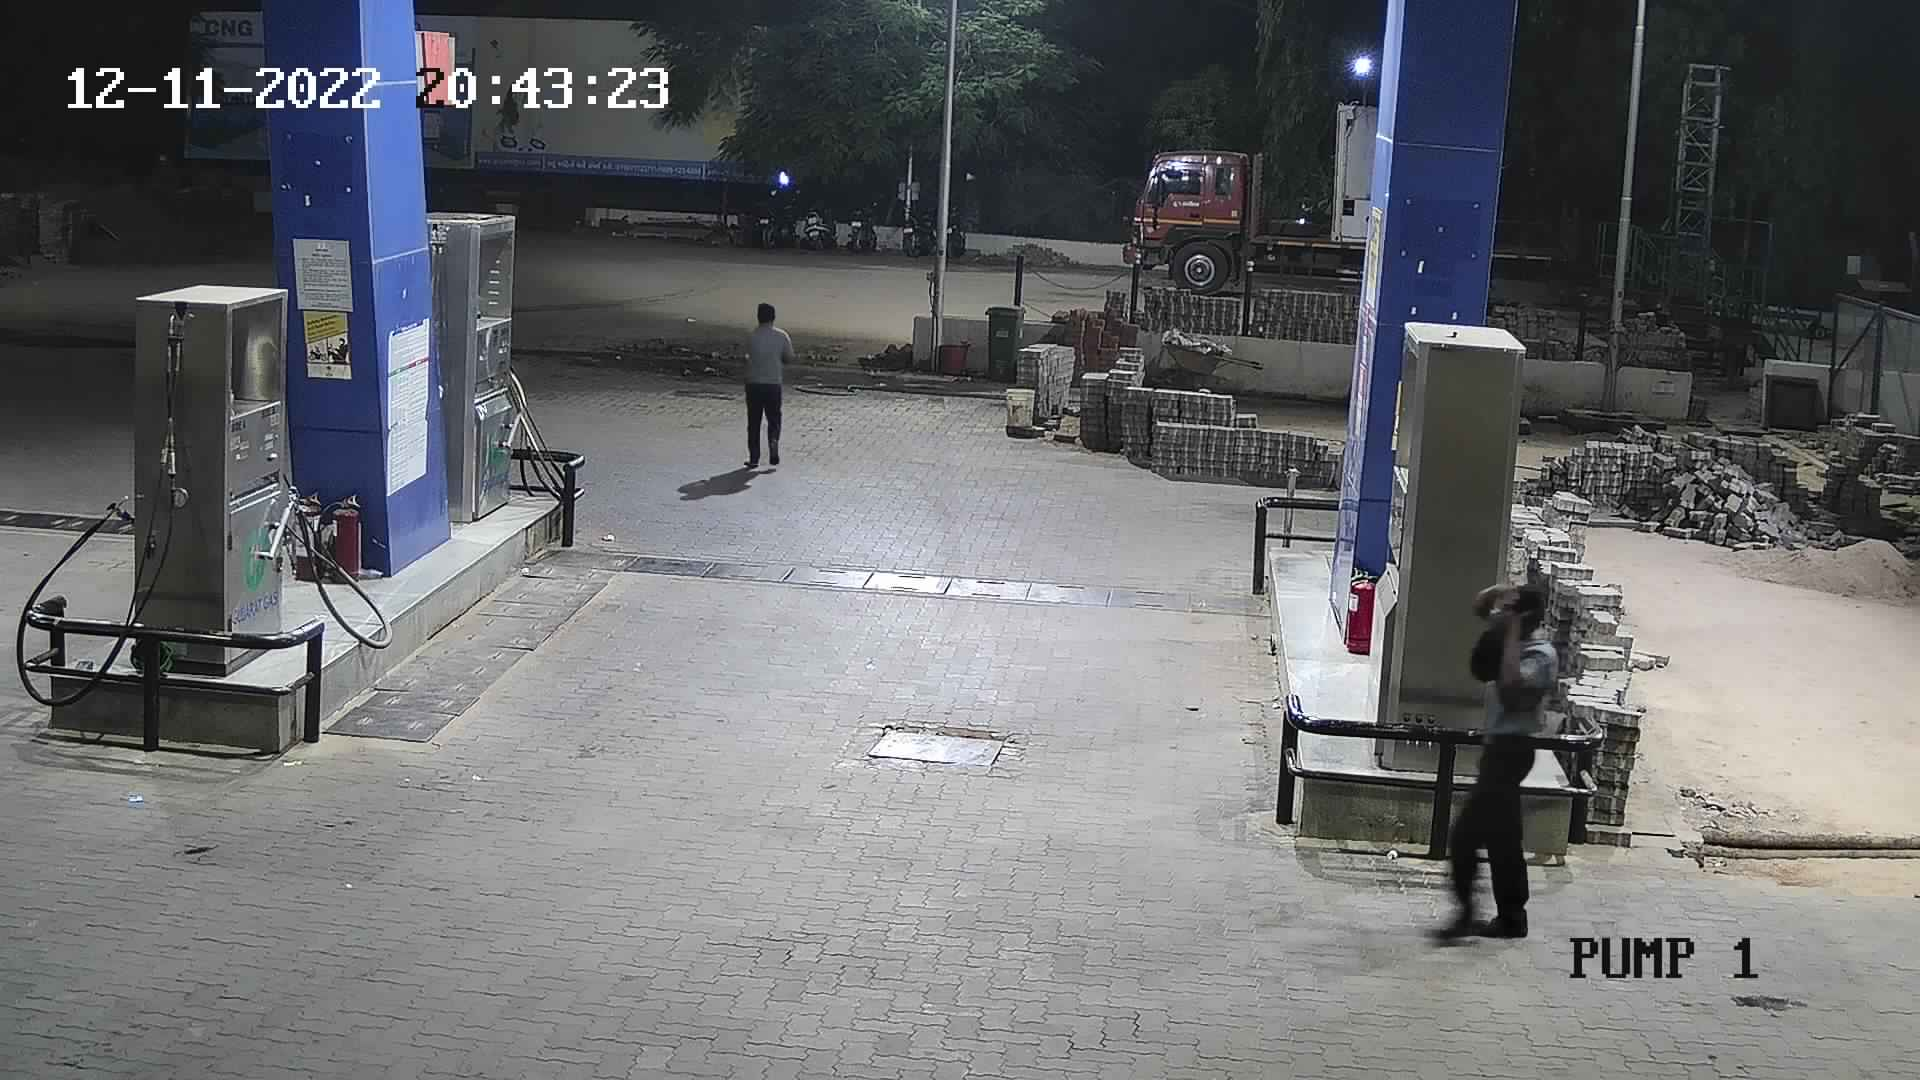Bike: (746, 182, 804, 253), (841, 187, 891, 258), (800, 182, 847, 257), (895, 196, 943, 264), (942, 193, 976, 269)
HMV: (1116, 90, 1382, 293)
